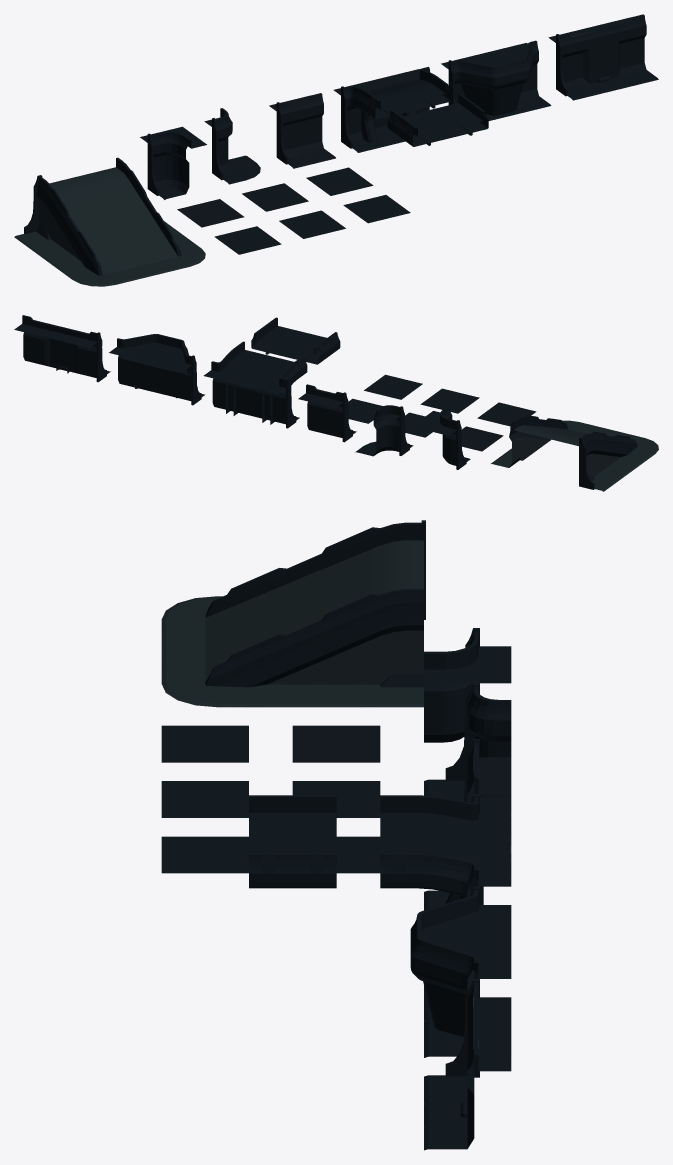
Rendered from STRUCTURAL_MASTER_2.1.fbx.
The picture shows the model from 3 angles, top to bottom: view 1: azimuth 30°, elevation 25°; view 2: azimuth 150°, elevation 25°; view 3: azimuth 270°, elevation 25°; orthographic projection. The views are drawn at different scales.
Parts seen in each view (by area): view 1: Ramp, Wall C, Bridge, Balcony, Wall A, Bridge Exension, In Corner, Out Corner, Platform C, Ground B, Ground C, Platform A (+2 smaller); view 2: Ramp, Bridge, Balcony, Wall C, Bridge Exension, Wall A, Out Corner, In Corner, Ground C, Ground B, Ground A, Platform A (+2 smaller); view 3: Ramp, Bridge, Balcony, Bridge Exension, Wall C, In Corner, Out Corner, Platform A, Ground A, Ground C, Ground B, Platform B (+2 smaller).
Part boxes in pixels (<box>): Ramp: <box>14,157,205,286</box>; Wall C: <box>548,14,658,100</box>; Bridge: <box>333,67,451,152</box>; Balcony: <box>441,40,551,120</box>; Wall A: <box>269,93,335,168</box>; Bridge Exension: <box>387,93,488,146</box>; In Corner: <box>140,126,206,199</box>; Out Corner: <box>204,108,260,184</box>; Platform C: <box>306,167,373,195</box>; Ground B: <box>279,210,345,238</box>; Ground C: <box>343,195,410,223</box>; Platform A: <box>177,199,244,227</box>; Ramp: <box>491,415,658,491</box>; Bridge: <box>203,341,307,428</box>; Balcony: <box>109,334,205,405</box>; Wall C: <box>14,315,110,382</box>; Bridge Exension: <box>251,317,340,364</box>; Wall A: <box>298,384,356,442</box>; Out Corner: <box>355,405,413,456</box>; In Corner: <box>412,406,470,469</box>; Ground C: <box>364,374,422,399</box>; Ground B: <box>420,388,479,413</box>; Ground A: <box>477,402,536,426</box>; Platform A: <box>461,426,503,451</box>; Ramp: <box>161,520,425,707</box>; Bridge: <box>380,794,511,910</box>; Balcony: <box>410,886,511,1057</box>; Bridge Exension: <box>249,795,336,888</box>; Wall C: <box>424,979,511,1150</box>; In Corner: <box>424,628,511,742</box>; Out Corner: <box>424,683,511,812</box>; Platform A: <box>292,725,380,762</box>; Ground A: <box>161,725,248,762</box>; Ground C: <box>161,836,248,873</box>; Ground B: <box>161,781,248,817</box>; Platform B: <box>292,781,380,817</box>.
Bounding box in the file's own units: 3000 × 268 × 800.
